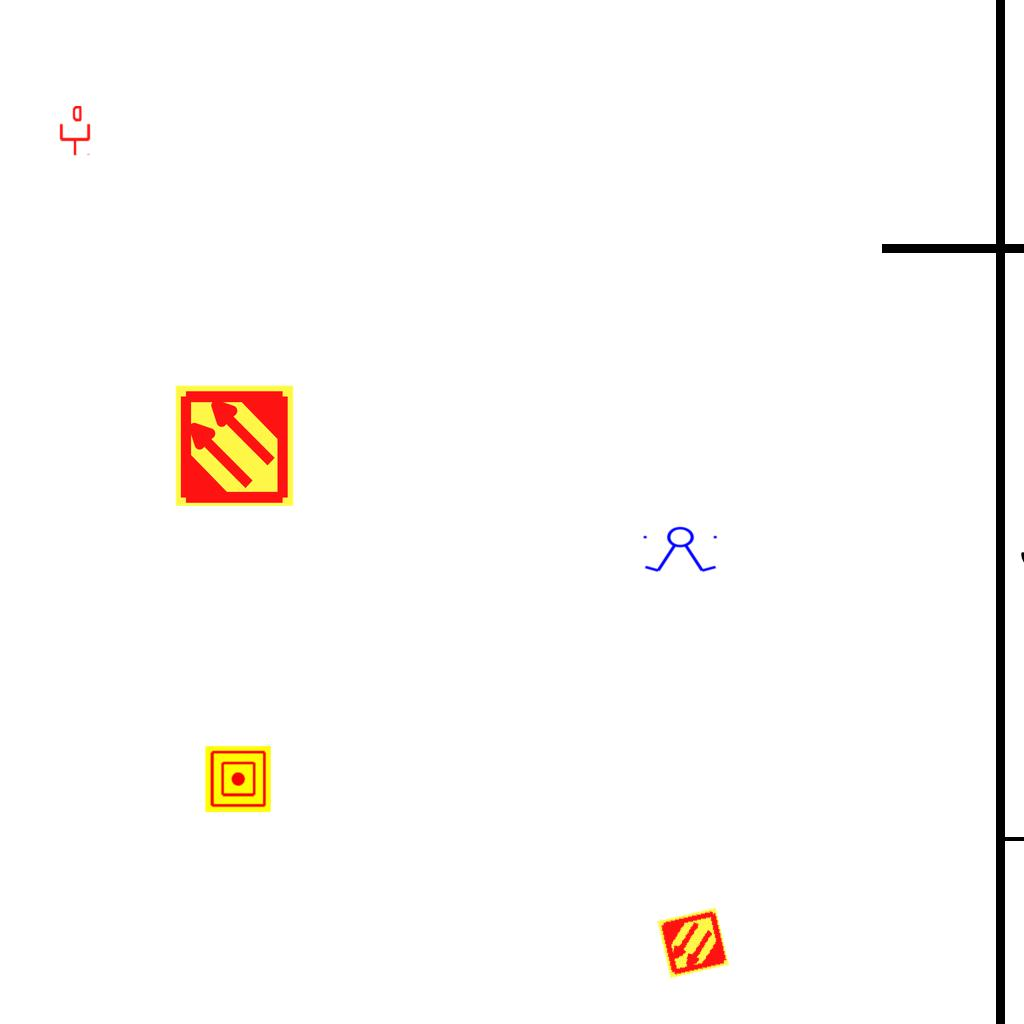ASR_Ansaugrauchmelder: (172, 383, 297, 508), (655, 905, 731, 981)
Datenanschluss_einfach: (58, 106, 92, 156)
NAM-Nichtautomatischer_Melder: (205, 746, 271, 812)
Serienschalter: (639, 526, 723, 574)
